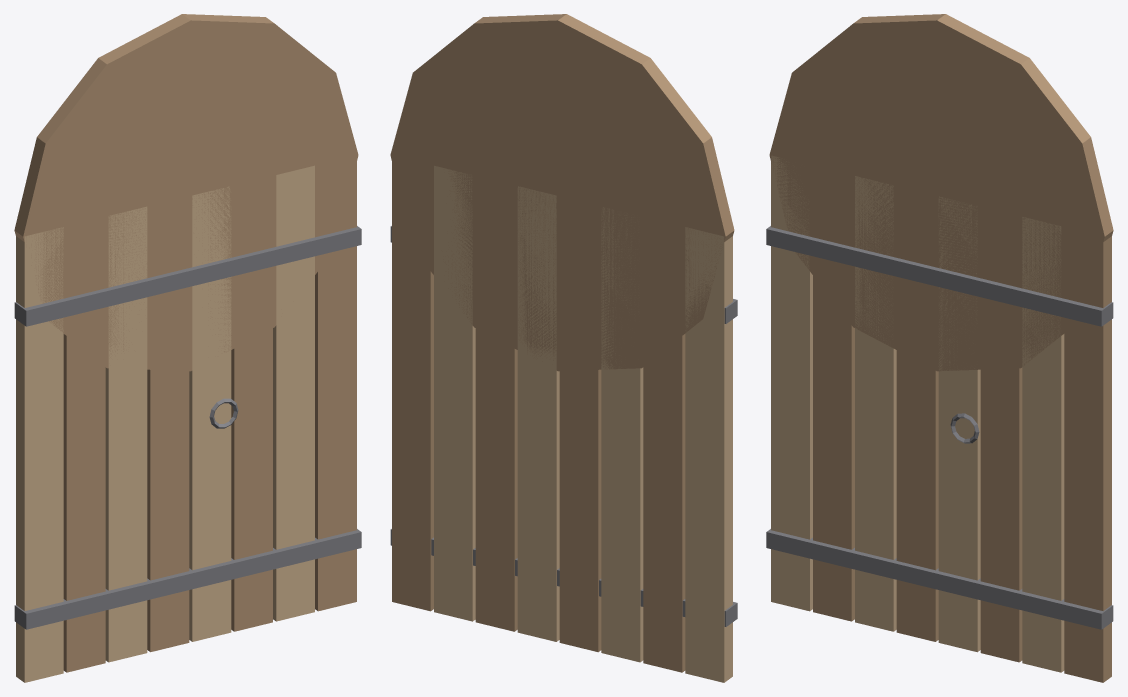
Rendered from door_double.glb.
3 renders of one model, left to right at view 1: azimuth 30°, elevation 25°; view 2: azimuth 150°, elevation 25°; view 3: azimuth 330°, elevation 25°, orthographic.
Parts seen in each view (by area): view 1: door_double; view 2: door_double; view 3: door_double.
Boxes of the visible parts, bbox=[...] form: door_double: bbox=[14, 14, 361, 682]; door_double: bbox=[390, 14, 737, 682]; door_double: bbox=[766, 14, 1113, 682].
Size of the model in its own units: 2.2 by 3.9 by 0.1452.
